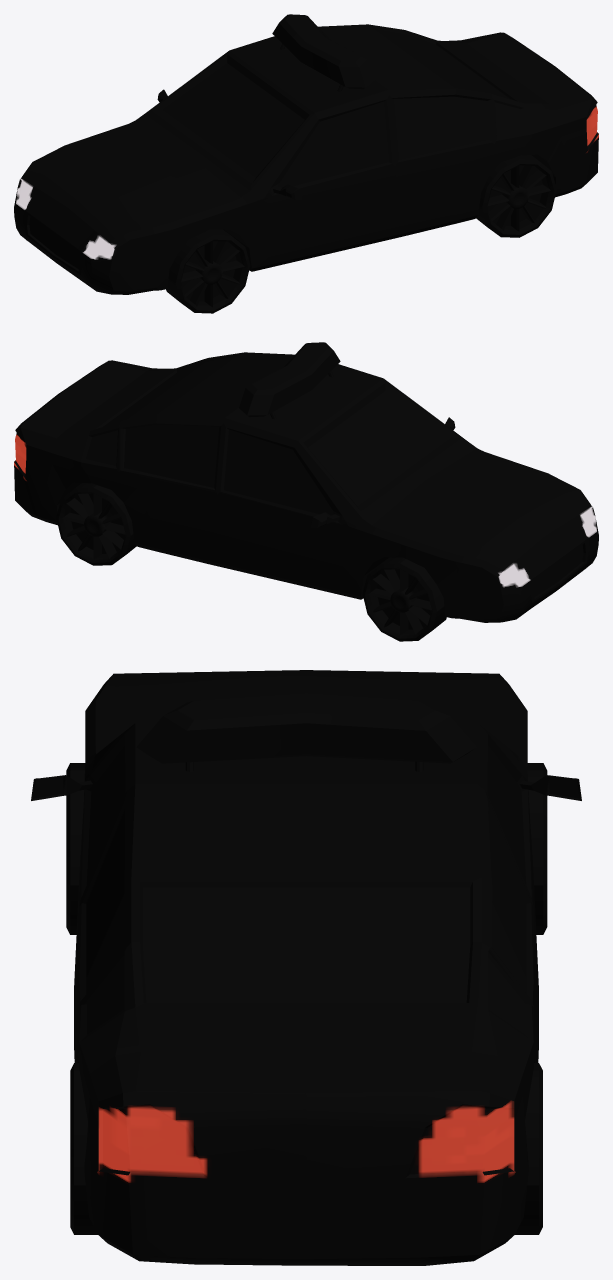
Rendered from PoliceCar.fbx.
The picture shows the model from 3 angles, top to bottom: view 1: azimuth 30°, elevation 25°; view 2: azimuth 150°, elevation 25°; view 3: azimuth 270°, elevation 25°; orthographic projection. The views are drawn at different scales.
Parts seen in each view (by area): view 1: Car; view 2: Car; view 3: Car.
Part boxes in pixels (<box>): Car: <box>14,14,598,313</box>; Car: <box>14,342,598,641</box>; Car: <box>31,670,581,1265</box>.
Size of the model in its own units: 213 by 76.59 by 100.
